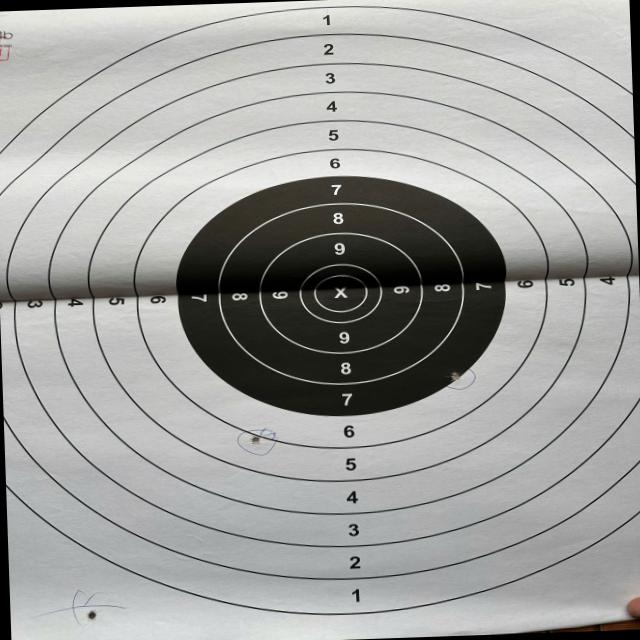bullet: (450, 371, 461, 381), (87, 611, 96, 620), (250, 435, 259, 444)
target: (0, 0, 640, 640)
